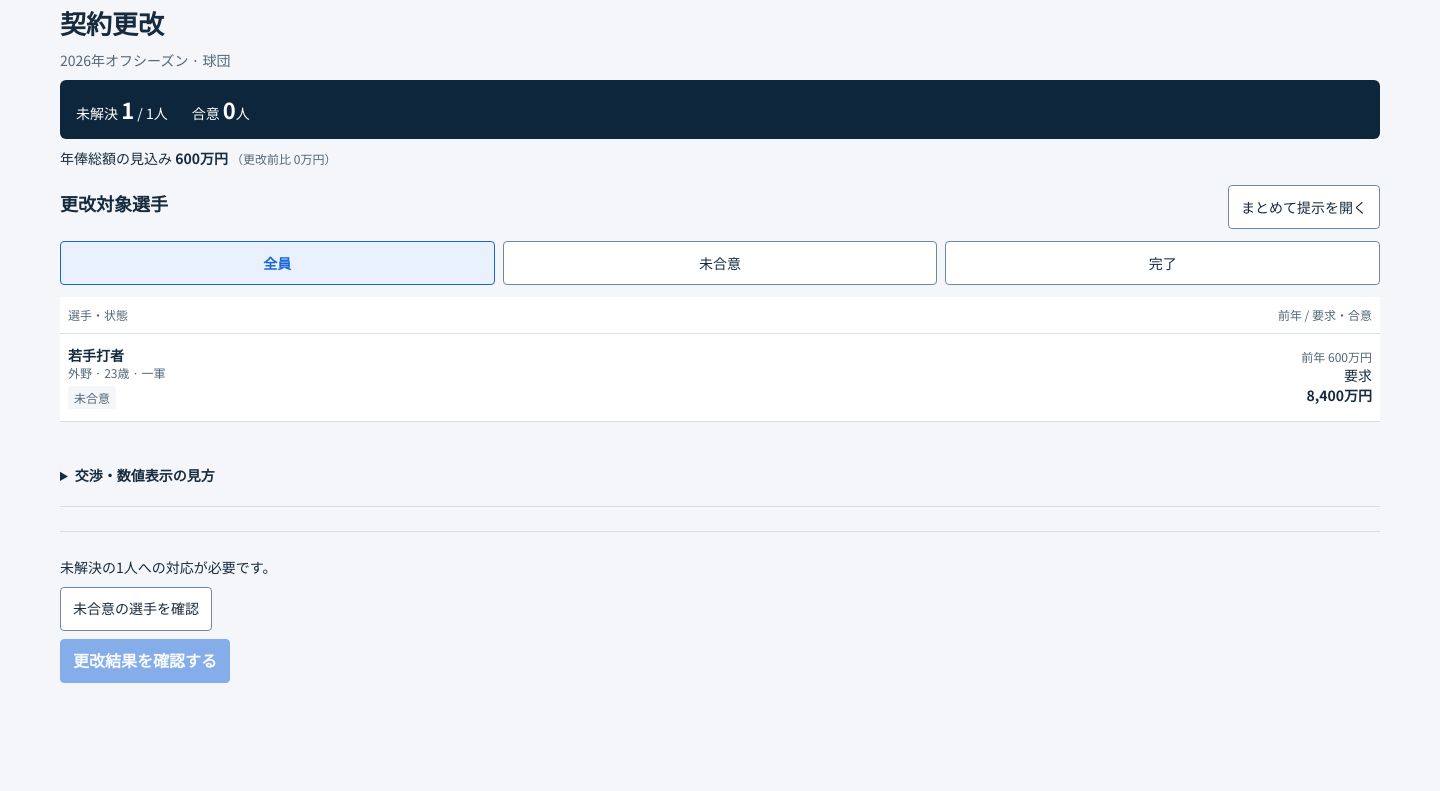
Test: salary demand in renewal screen › allows a low amount to be presented but never signs below the minimum salary guarantee
Click the button "若手打者 外野 · 23歳 · 一軍 未合意 前年 600万円 要求 8,400万円": (96, 355) [60, 334, 1380, 421]
(page scrolled)
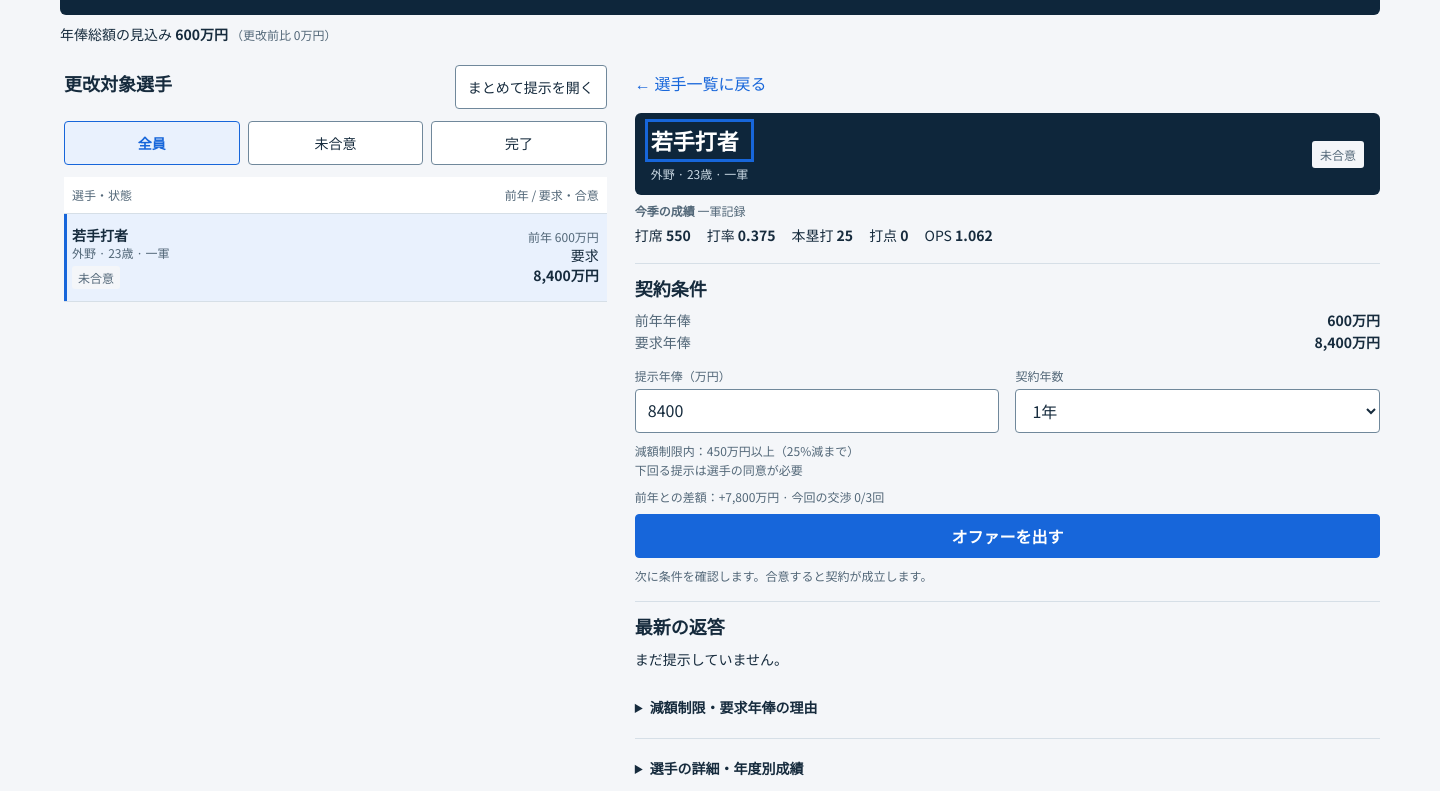
Replace the text in the number field labelled "提示年俸（万円）" with "100": (817, 411) [635, 389, 999, 433]
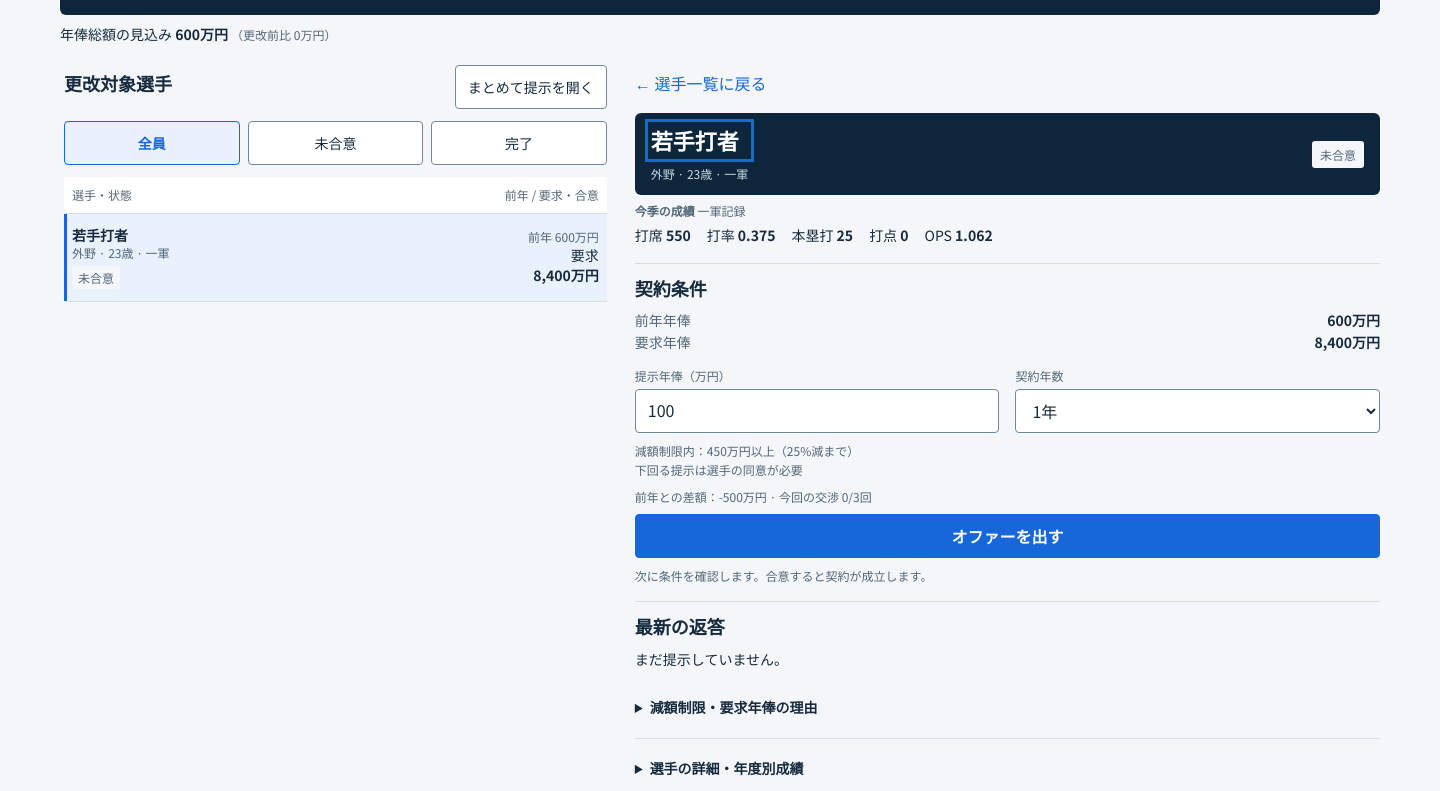
Click the button "オファーを出す": (1007, 536) [635, 514, 1380, 558]
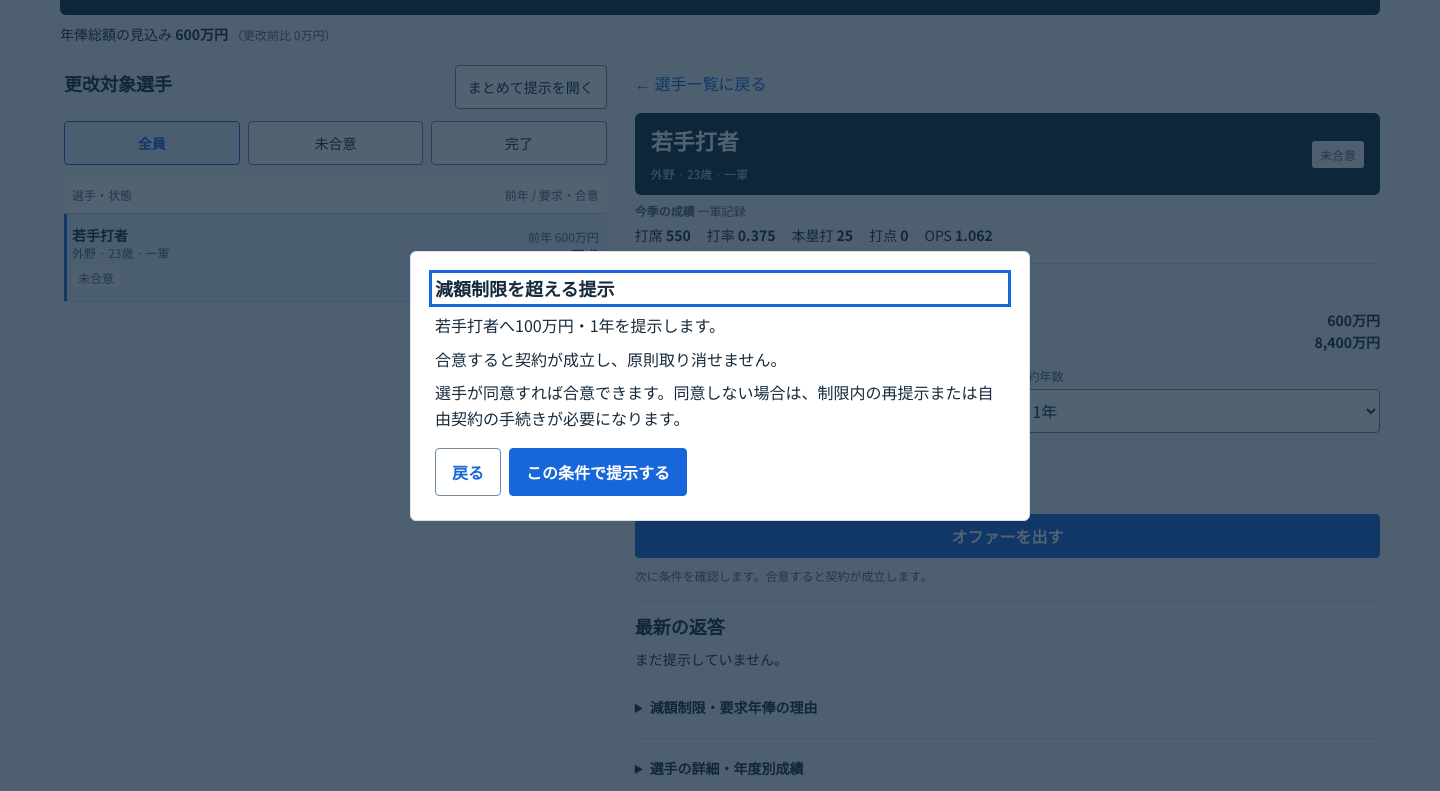
Click the button "この条件で提示する": (598, 472) [509, 448, 687, 496]
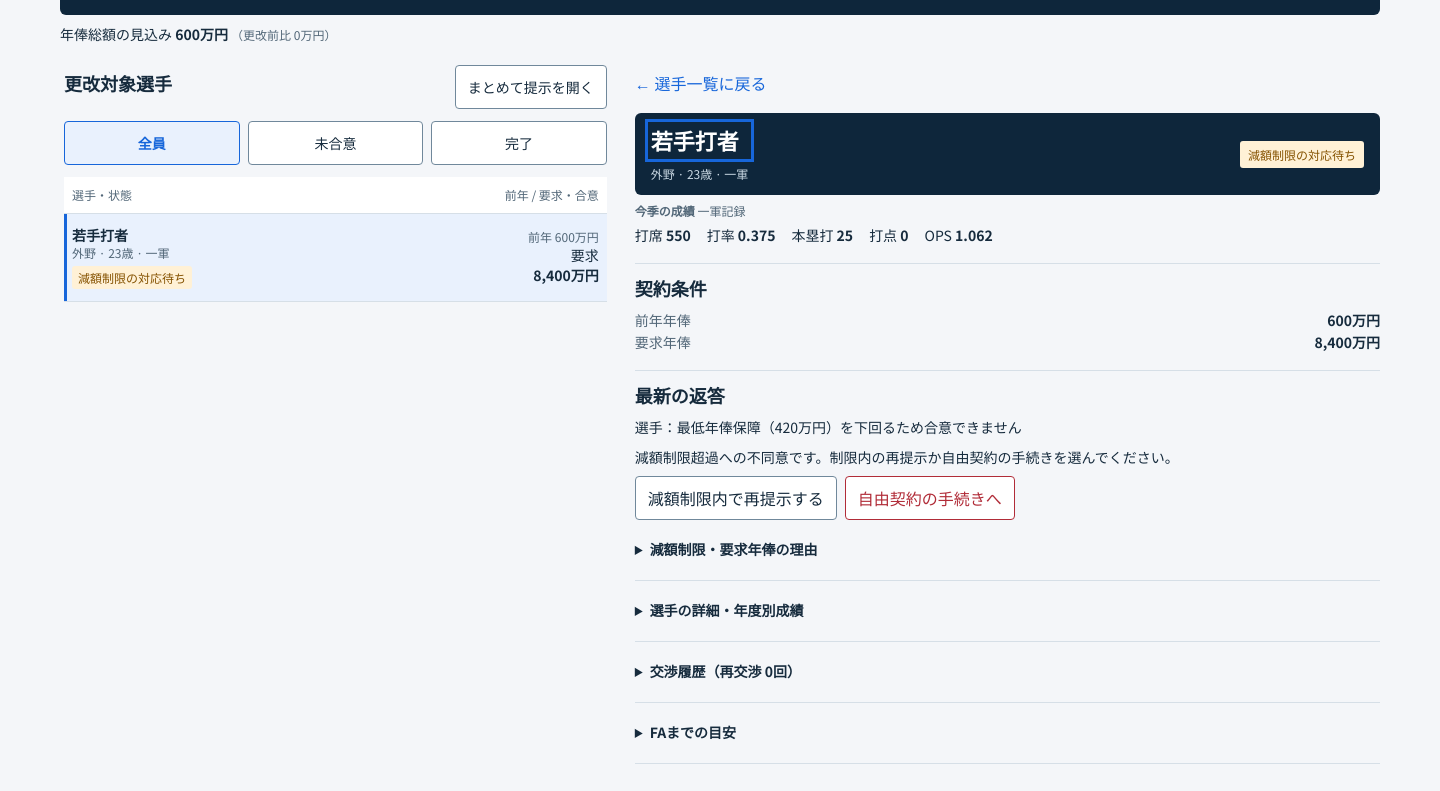
expect the text "最低年俸保障" is shown: met, box [635, 417, 1022, 437]
